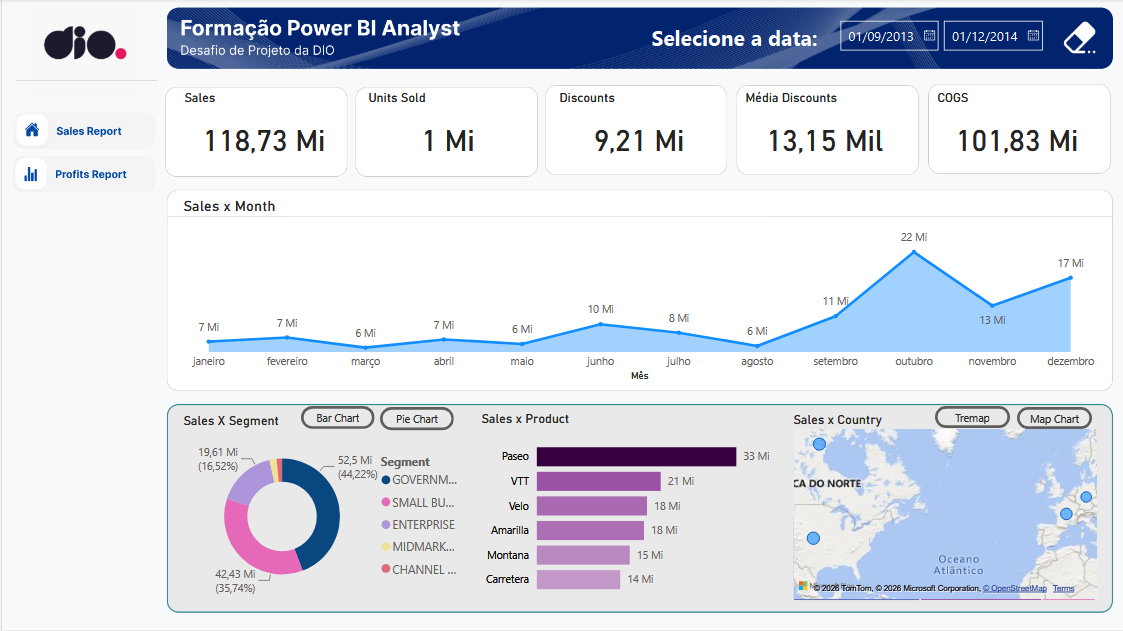

The dashboard page shown, as its layout file describes it:
{"tool":"powerbi","page":{"name":"Página 1","canvas":[1280,720],"ordinal":0},"visuals":[{"type":"textbox","box":[735.8,22.6,208.3,49.1],"z":0,"group":"g1"},{"type":"cardVisual","title":"Sales","fields":{"Data":["Sum(financials. Sales)"]},"box":[203.3,105.1,191.6,90.4],"z":0,"group":"g2"},{"type":"areaChart","fields":{"Category":["financials.Date.Variation.Hierarquia de datas.Mês"],"Y":["Sum(financials. Sales)"]},"box":[195.5,252.5,1064.9,188.6],"z":0},{"type":"treemap","title":"Sales x Country ","fields":{"Group":["financials.Country"],"Values":["Sum(financials. Sales)"]},"box":[898.1,471.9,354.4,218.7],"z":0,"group":"g4"},{"type":"actionButton","title":"Clean","box":[1202.4,14.7,58,57],"z":1000,"group":"g1"},{"type":"cardVisual","title":"Units Sold","fields":{"Data":["Sum(financials.Units Sold)"]},"box":[413.5,105.1,191.6,90.4],"z":1000,"group":"g2"},{"type":"clusteredBarChart","title":"Sales x Product","fields":{"Y":["Sum(financials. Sales)"],"Category":["financials.Product"]},"box":[541.9,471.2,349.1,219],"z":1000},{"type":"clusteredBarChart","title":"Sales X Segment ","fields":{"Y":["Sum(financials. Sales)"],"Category":["financials.Segment"]},"box":[205,471.3,332.4,218.7],"z":1125,"group":"g3"},{"type":"actionButton","title":"Botão - pie","box":[433.2,465.3,84.5,26.5],"z":1250,"group":"g3"},{"type":"actionButton","title":"Botão - bar","box":[343.8,464.3,83.9,26.2],"z":1500,"group":"g3"},{"type":"actionButton","title":"Botão - tremap","box":[1064.1,464.4,85.6,25.1],"z":1500,"group":"g4"},{"type":"slicer","fields":{"Values":["financials.Date"]},"box":[943.7,14.7,251.5,64.9],"z":2000},{"type":"cardVisual","title":"Discounts","fields":{"Data":["Sum(financials.Discounts)"]},"box":[631.6,105.1,191.6,90.4],"z":2000,"group":"g2"},{"type":"actionButton","title":"Botão - map","box":[1157.7,465.4,85.6,25.1],"z":2000,"group":"g4"},{"type":"cardVisual","title":"Média Discounts","fields":{"Data":["Avg(financials.Discounts)"]},"box":[843.8,105.1,191.6,90.4],"z":3000,"group":"g2"},{"type":"textbox","box":[202.4,221,333,38.3],"z":3000},{"type":"cardVisual","title":"COGS","fields":{"Data":["Sum(financials.COGS)"]},"box":[1061.9,105.1,191.6,90.4],"z":4000,"group":"g2"},{"type":"actionButton","title":"Navegador","box":[12.8,175.7,155.9,45.4],"z":4000},{"type":"group","id":"g1","title":"Filtro por data","box":[735.8,14.7,524.6,57],"z":5000},{"type":"group","id":"g2","title":"Cartões","box":[203.3,105.1,1050.1,90.4],"z":6000},{"type":"group","id":"g3","title":"Sales x Segmento","box":[204.3,464.3,333,226.8],"z":7000},{"type":"group","id":"g4","title":"Sales x País","box":[898.1,464.4,355.5,226.2],"z":8000}]}

Visuals, with their boxes on the page's 1280x720 design canvas (x1, y1, x2, y2). These are canvas units, not pixel positions in the 1123x631 screenshot, which may show the page scaled, cropped or inside an application window:
textbox: [736, 23, 944, 72]
"Sales" cardVisual: [203, 105, 395, 196]
areaChart - financials.Date.Variation.Hierarquia de datas.Mês x Sum(financials. Sales): [196, 252, 1260, 441]
"Sales x Country " treemap: [898, 472, 1252, 691]
"Clean" actionButton: [1202, 15, 1260, 72]
"Units Sold" cardVisual: [414, 105, 605, 196]
"Sales x Product" clusteredBarChart: [542, 471, 891, 690]
"Sales X Segment " clusteredBarChart: [205, 471, 537, 690]
"Botão - pie" actionButton: [433, 465, 518, 492]
"Botão - bar" actionButton: [344, 464, 428, 490]
"Botão - tremap" actionButton: [1064, 464, 1150, 490]
slicer - financials.Date: [944, 15, 1195, 80]
"Discounts" cardVisual: [632, 105, 823, 196]
"Botão - map" actionButton: [1158, 465, 1243, 490]
"Média Discounts" cardVisual: [844, 105, 1035, 196]
textbox: [202, 221, 535, 259]
"COGS" cardVisual: [1062, 105, 1254, 196]
"Navegador" actionButton: [13, 176, 169, 221]
"Filtro por data" group: [736, 15, 1260, 72]
"Cartões" group: [203, 105, 1253, 196]
"Sales x Segmento" group: [204, 464, 537, 691]
"Sales x País" group: [898, 464, 1254, 691]
